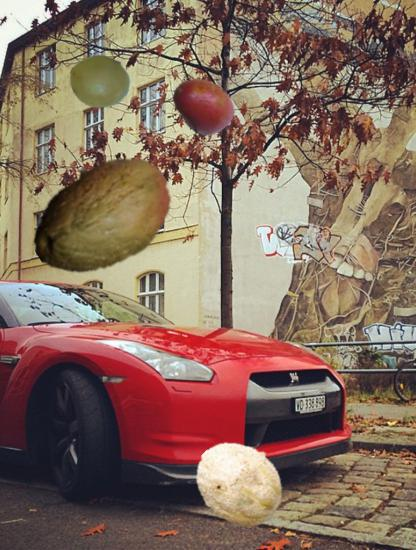Cantaloupe: (193, 436, 288, 531)
Grape: (69, 51, 130, 112)
Papaya: (26, 141, 176, 291)
Potato: (170, 73, 236, 139)
